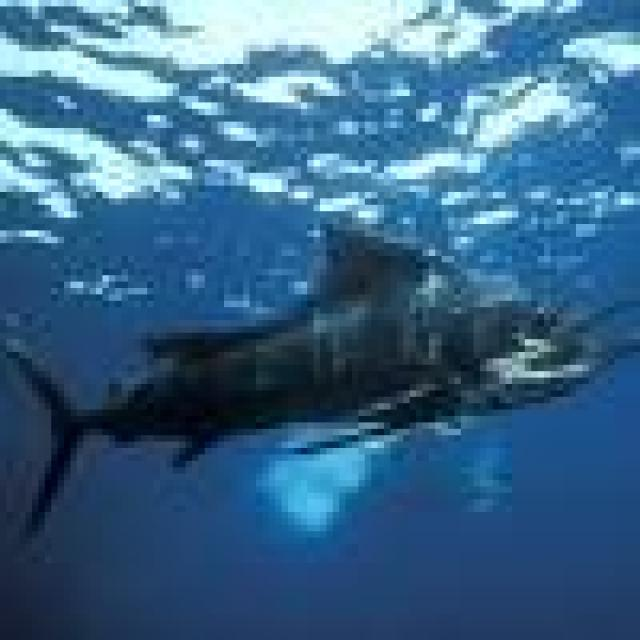Blue Marlin: (6, 218, 640, 544)
